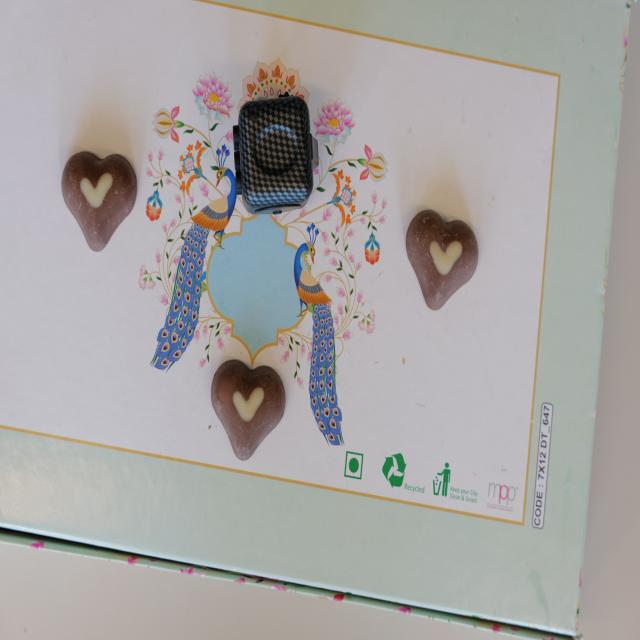Passion_au_lait: (211, 360, 288, 463), (406, 206, 480, 310), (62, 152, 138, 252)
